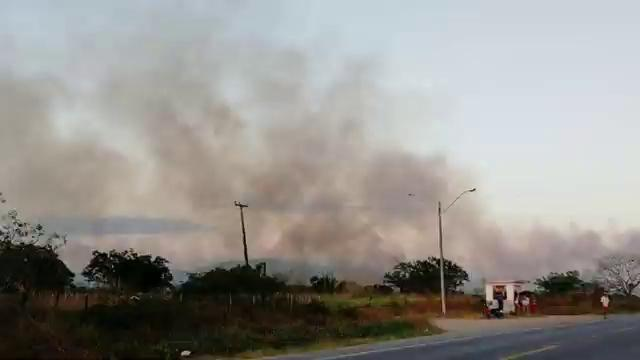smoke: (285, 147, 386, 232), (20, 146, 107, 205)
